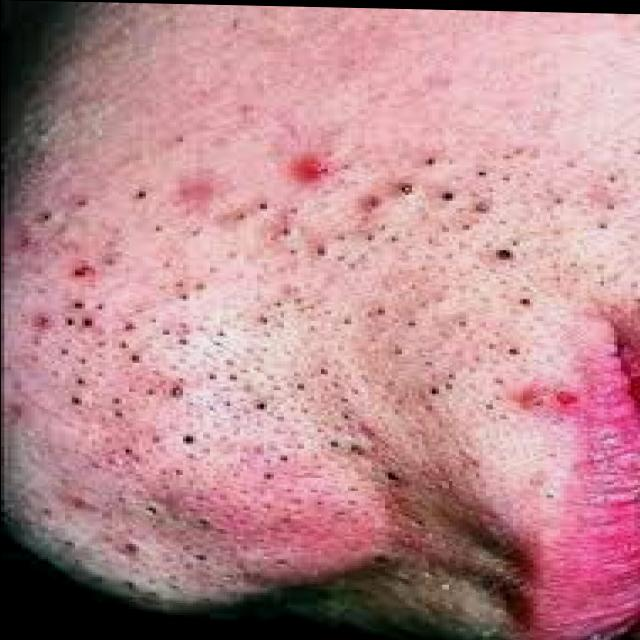8: (280, 152, 358, 192)
dark spot: (3, 295, 253, 417), (358, 127, 556, 261), (348, 352, 610, 431), (26, 471, 242, 557)
